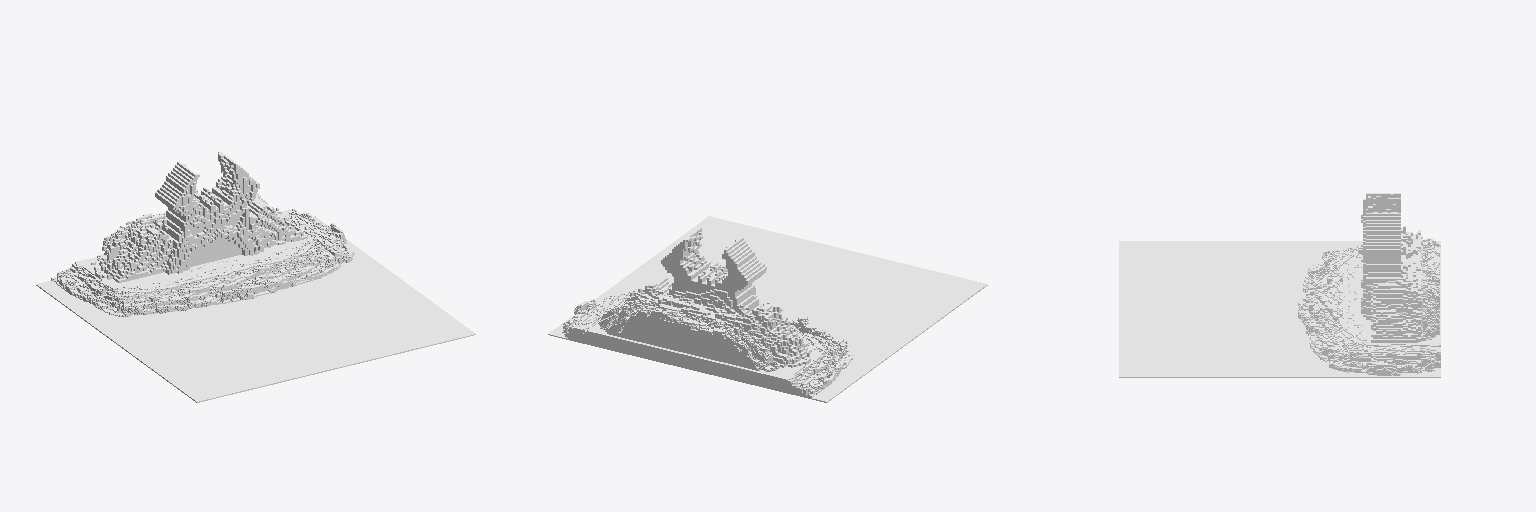
Rendered from background_onigashima.obj.
3 views of the same model, side by side, from view 1: azimuth 30°, elevation 25°; view 2: azimuth 150°, elevation 25°; view 3: azimuth 270°, elevation 25° (orthographic).
Parts seen in each view (by area): view 1: object 1; view 2: object 1; view 3: object 1.
Part boxes in pixels (bbox=[...]): object 1: bbox=[36, 152, 475, 402]; object 1: bbox=[548, 216, 987, 402]; object 1: bbox=[1119, 193, 1440, 377].
Bounding box in the file's own units: 25.6 × 9.5 × 25.6.